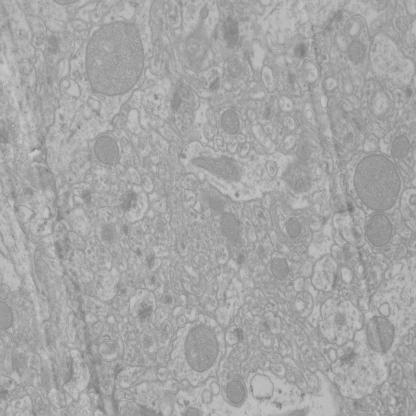mitochondria: (85, 21, 146, 98), (354, 153, 402, 213), (184, 321, 220, 374), (192, 155, 244, 184), (365, 313, 395, 354), (367, 211, 393, 250), (280, 160, 311, 192), (92, 134, 119, 166), (220, 210, 242, 241), (347, 38, 369, 68), (220, 108, 241, 136), (392, 133, 413, 161), (226, 376, 247, 404), (270, 255, 290, 283), (284, 216, 302, 238), (1, 302, 13, 332)
